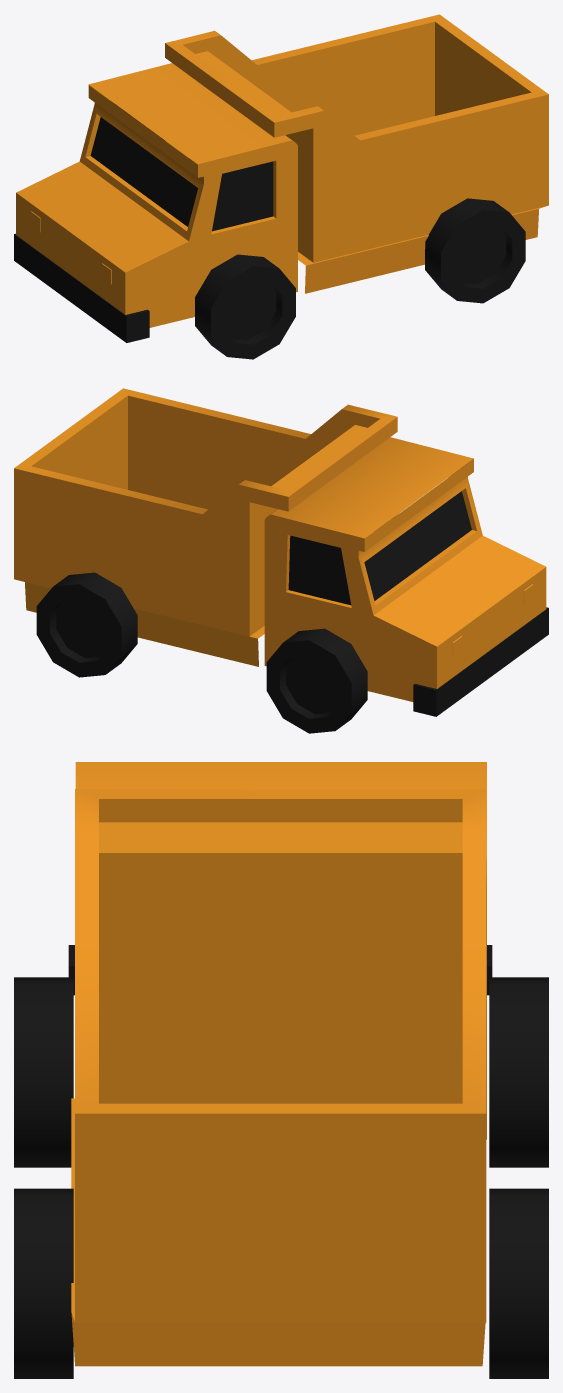
The model's file is kamyon.fbx.
3 renders of one model, top to bottom at view 1: azimuth 30°, elevation 25°; view 2: azimuth 150°, elevation 25°; view 3: azimuth 270°, elevation 25°, orthographic. The views are drawn at different scales.
Parts seen in each view (by area): view 1: kamyon; view 2: kamyon; view 3: kamyon.
Boxes of the visible parts, x1,y1,x2,y2 form: kamyon: (14, 14, 548, 359); kamyon: (14, 388, 548, 733); kamyon: (14, 762, 548, 1378).
Size of the model in its own units: 29.39 by 14.29 by 17.07.
